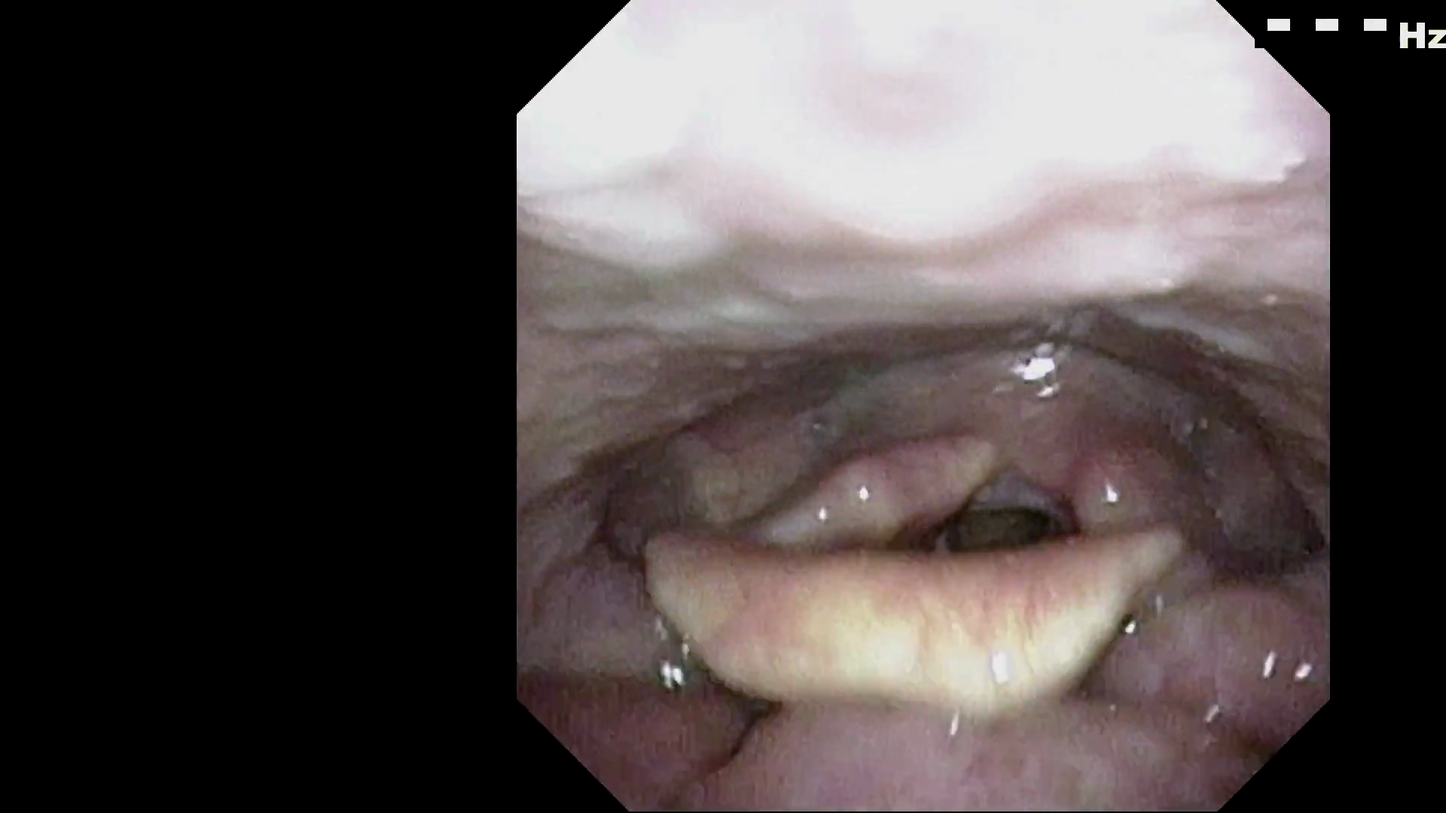epiglottis: (646, 584, 1188, 724)
